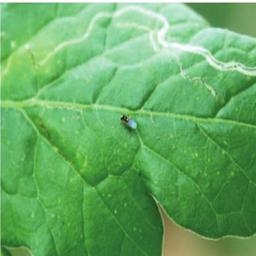liriomyza: (35, 5, 256, 97), (120, 113, 138, 130)
